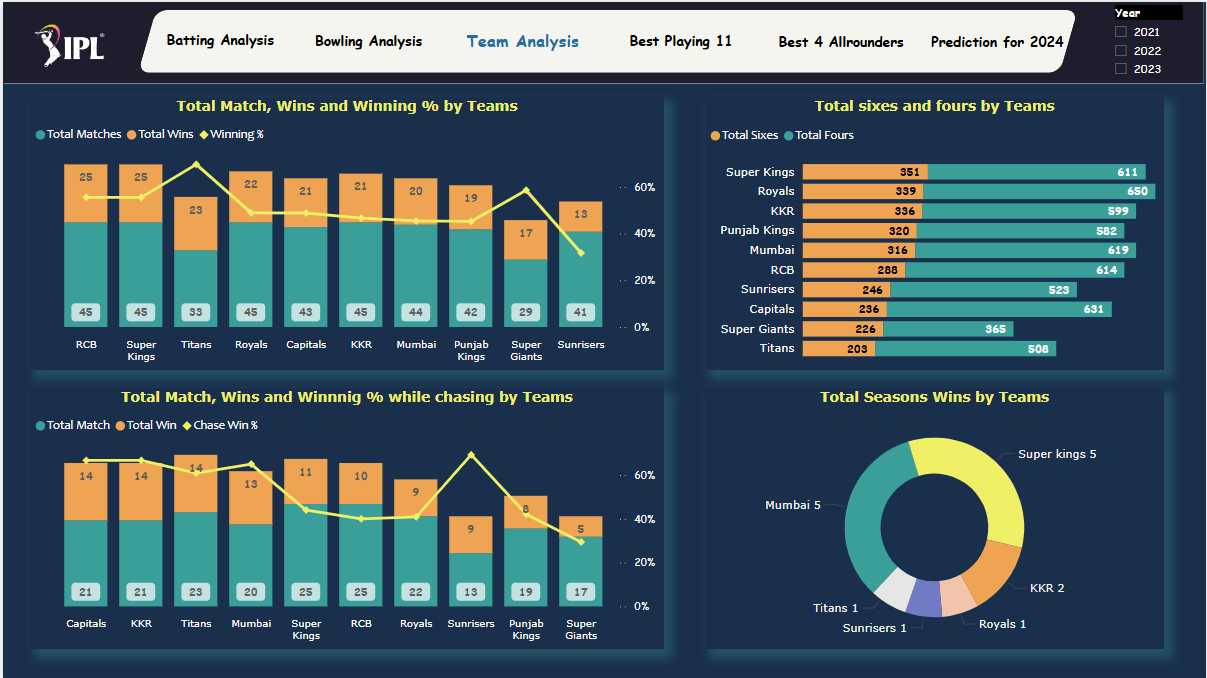

This screenshot's page, from the dashboard's own definition file:
{"tool":"powerbi","page":{"name":"Team  Analysis","canvas":[1280,720],"ordinal":3},"visuals":[{"type":"lineStackedColumnComboChart","title":"Total Match, Wins and Winning % by Teams","fields":{"Category":["New Table.Team"],"Y":["CountNonNull(New Table.win_flag)","Sum(New Table.win_flag)"],"Y2":["New Table.Winning %"]},"box":[28.4,100.8,674.1,290],"z":0},{"type":"lineStackedColumnComboChart","title":"Total Match, Wins and Winnnig % while chasing by Teams","fields":{"Category":["dim_match_summary.winner"],"Y":["CountNonNull(dim_match_summary.Chase WIN)","Sum(dim_match_summary.Chase WIN)"],"Y2":["Key Metrics.Chase Win %"]},"box":[28.6,410.8,674.2,277.7],"z":1000},{"type":"barChart","title":"Total sixes and fours by Teams","fields":{"Category":["fact_bating_summary.team"],"Y":["Sum(fact_bating_summary.sixes)","Sum(fact_bating_summary.fours)"]},"box":[746.6,100.8,488.3,289.8],"z":2000},{"type":"shape","title":"Black Shape","box":[1.6,0,1276,86.6],"z":3000},{"type":"shape","title":"White shape","box":[143.2,8.5,999.7,66.8],"z":4000},{"type":"slicer","fields":{"Values":["dim_match_summary.Year"]},"box":[1168.7,0,97.7,85],"z":5000},{"type":"group","id":"g1","title":"Group 1","box":[153.4,6,988.6,68.7],"z":6000},{"type":"image","box":[28.6,15.7,84.5,61.6],"z":7000},{"type":"donutChart","title":"Total Seasons Wins by Teams","fields":{"Category":["Top 3 Teams.Team"],"Y":["Sum(Top 3 Teams.Winner)"]},"box":[747.2,410.8,488.1,277.7],"z":8000},{"type":"textbox","box":[1126.2,688.3,91.4,28.4],"z":9000},{"type":"image","box":[1198.1,687.1,40.1,30.1],"z":10000},{"type":"actionButton","title":"Button Player Ana selected","box":[153.4,6.2,155.8,66.8],"z":12500,"group":"g1"},{"type":"actionButton","title":"Button Player Ana selected","box":[309.4,6,158.9,68.7],"z":13000,"group":"g1"},{"type":"actionButton","title":"Button Player Ana selected","box":[471.1,6,163.2,67.3],"z":14000,"group":"g1"},{"type":"actionButton","title":"Button Player Ana selected","box":[634.3,6,174.6,68.7],"z":15000,"group":"g1"},{"type":"actionButton","title":"Button Player Ana selected","box":[808.3,7.8,166.1,66.8],"z":17000,"group":"g1"},{"type":"actionButton","title":"Button Player Ana selected","box":[975.1,7.7,166.9,66.8],"z":17500,"group":"g1"}]}

Visuals, with their boxes in screenshot pixels (x1, y1, x2, y2), scaled from the page's 1280x720 canvas onto the 1207x678 screenshot:
"Total Match, Wins and Winning % by Teams" lineStackedColumnComboChart: bbox=(27, 95, 662, 368)
"Total Match, Wins and Winnnig % while chasing by Teams" lineStackedColumnComboChart: bbox=(27, 387, 663, 648)
"Total sixes and fours by Teams" barChart: bbox=(704, 95, 1164, 368)
"Black Shape" shape: bbox=(2, 0, 1205, 82)
"White shape" shape: bbox=(135, 8, 1078, 71)
slicer - dim_match_summary.Year: bbox=(1102, 0, 1194, 80)
"Group 1" group: bbox=(145, 6, 1077, 70)
image: bbox=(27, 15, 107, 73)
"Total Seasons Wins by Teams" donutChart: bbox=(705, 387, 1165, 648)
textbox: bbox=(1062, 648, 1148, 675)
image: bbox=(1130, 647, 1168, 675)
"Button Player Ana selected" actionButton: bbox=(145, 6, 292, 69)
"Button Player Ana selected" actionButton: bbox=(292, 6, 442, 70)
"Button Player Ana selected" actionButton: bbox=(444, 6, 598, 69)
"Button Player Ana selected" actionButton: bbox=(598, 6, 763, 70)
"Button Player Ana selected" actionButton: bbox=(762, 7, 919, 70)
"Button Player Ana selected" actionButton: bbox=(919, 7, 1077, 70)
